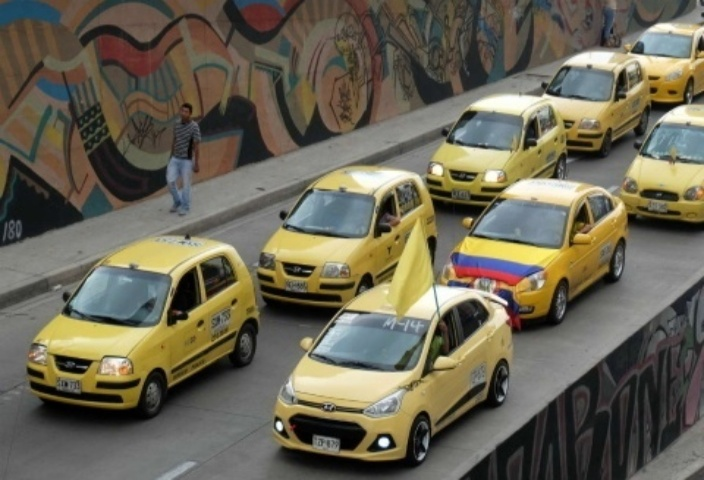taxi: (28, 229, 264, 430), (270, 278, 514, 466), (251, 155, 443, 306), (457, 175, 637, 318), (420, 91, 574, 207), (538, 46, 652, 155), (618, 103, 704, 226), (629, 13, 704, 105)
